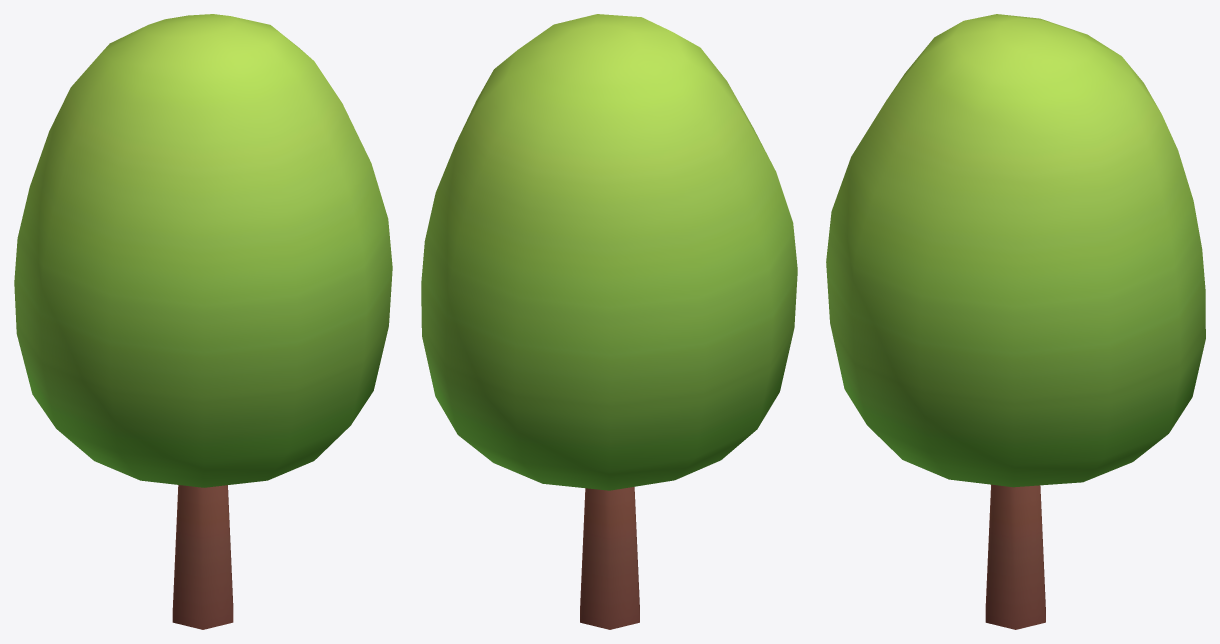
The model's file is city2-tree-07.glb.
The picture shows the model from 3 angles, left to right: view 1: azimuth 30°, elevation 25°; view 2: azimuth 150°, elevation 25°; view 3: azimuth 270°, elevation 25°; orthographic projection.
Parts seen in each view (by area): view 1: Tree_07; view 2: Tree_07; view 3: Tree_07.
Boxes of the visible parts, <box> form: Tree_07: <box>14,14,392,629</box>; Tree_07: <box>421,14,797,629</box>; Tree_07: <box>826,14,1205,629</box>.
Size of the model in its own units: 3.07 by 5.26 by 3.09.
Materials: 1 (1 with a texture image).
